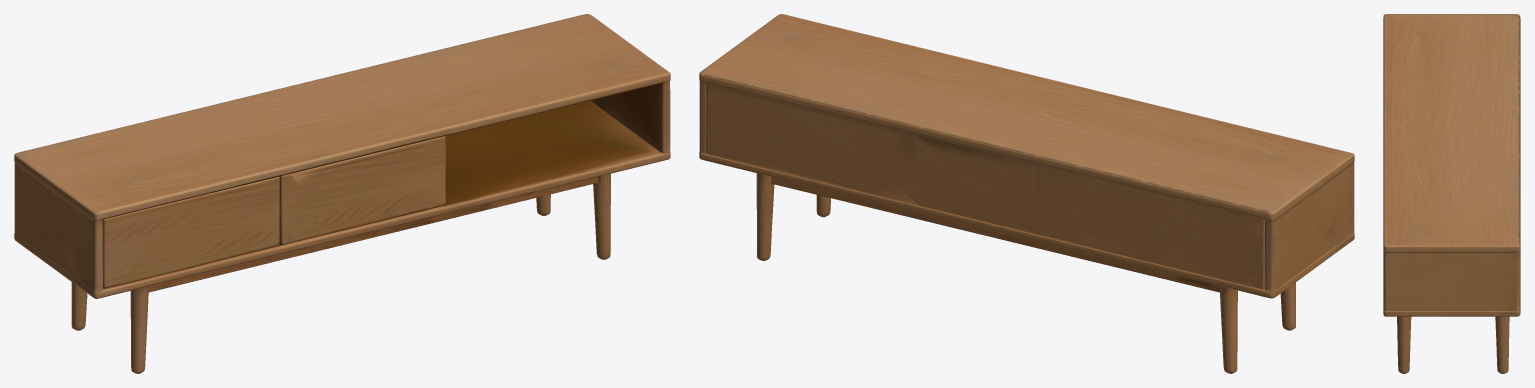
3 views of the same model, side by side, from view 1: azimuth 30°, elevation 25°; view 2: azimuth 150°, elevation 25°; view 3: azimuth 270°, elevation 25° (orthographic). The views are drawn at different scales.
Parts seen in each view (by area): view 1: material; view 2: material; view 3: material.
Boxes of the visible parts, bbox=[...] form: material: bbox=[14, 14, 670, 373]; material: bbox=[699, 14, 1354, 373]; material: bbox=[1383, 14, 1520, 373].
Size of the model in its own units: 1.12 by 0.3365 by 0.2796.
Materials: 1 (1 with a texture image).
